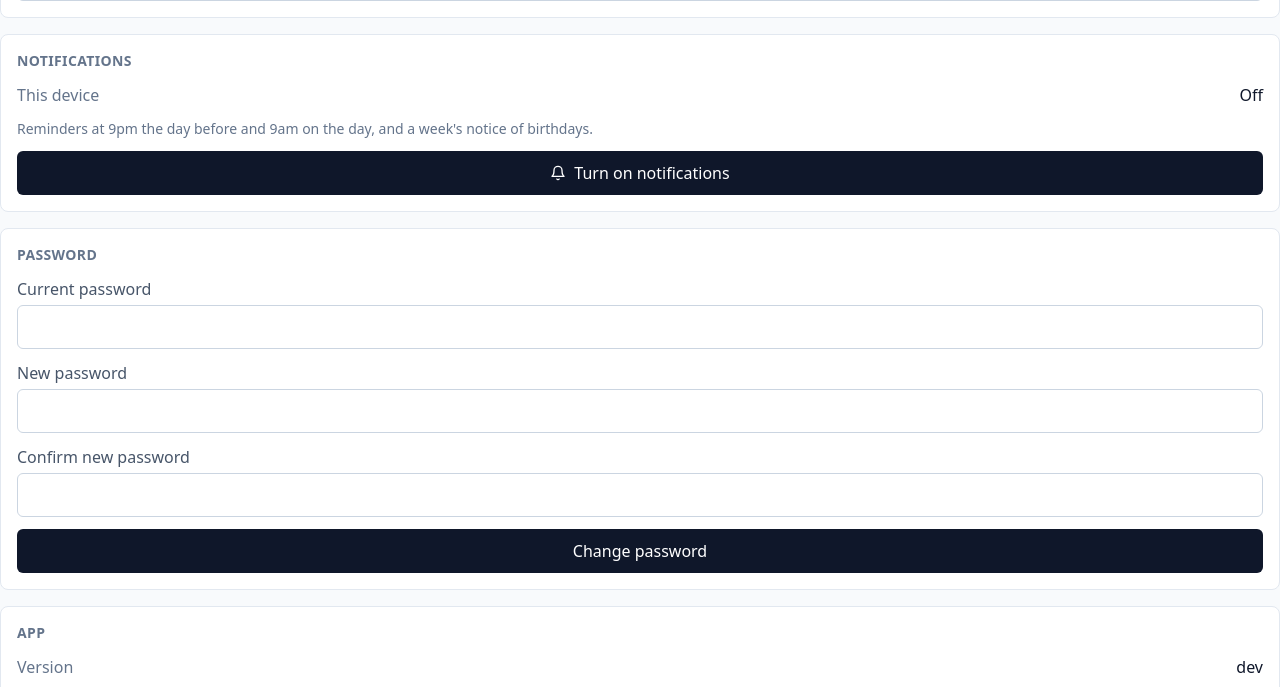
Test: Settings › changes the password and confirms it
(page scrolled)
Type "old-password" into the password field labelled "Current password" at (640, 327), box [17,305,1263,349]
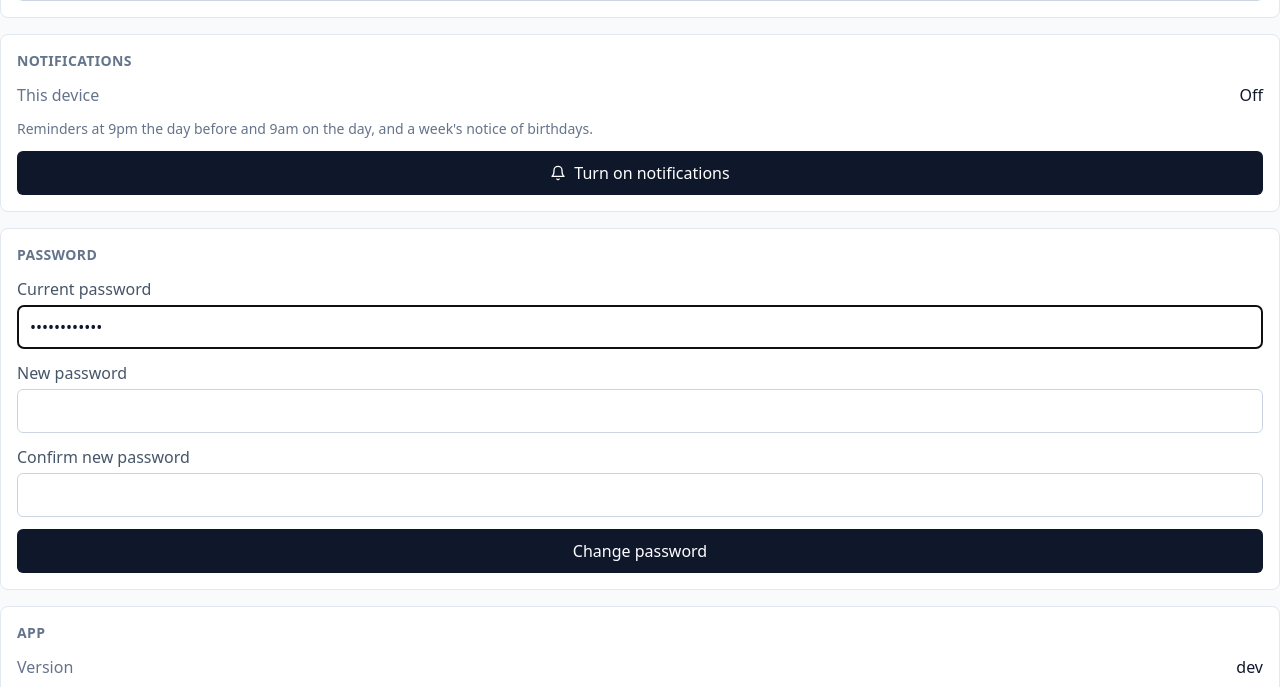
Type "brand-new-one" into the password field labelled "New password" at (640, 411), box [17,389,1263,433]
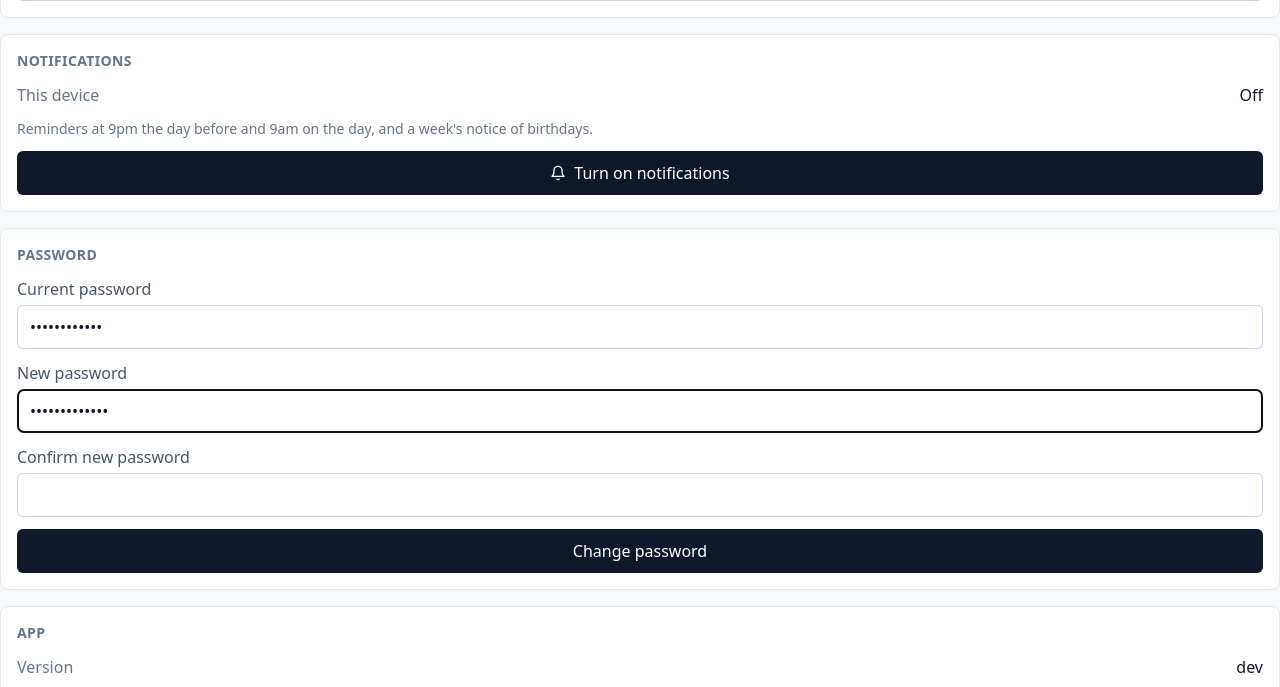
Type "brand-new-one" into the password field labelled "Confirm new password" at (640, 495), box [17,473,1263,517]
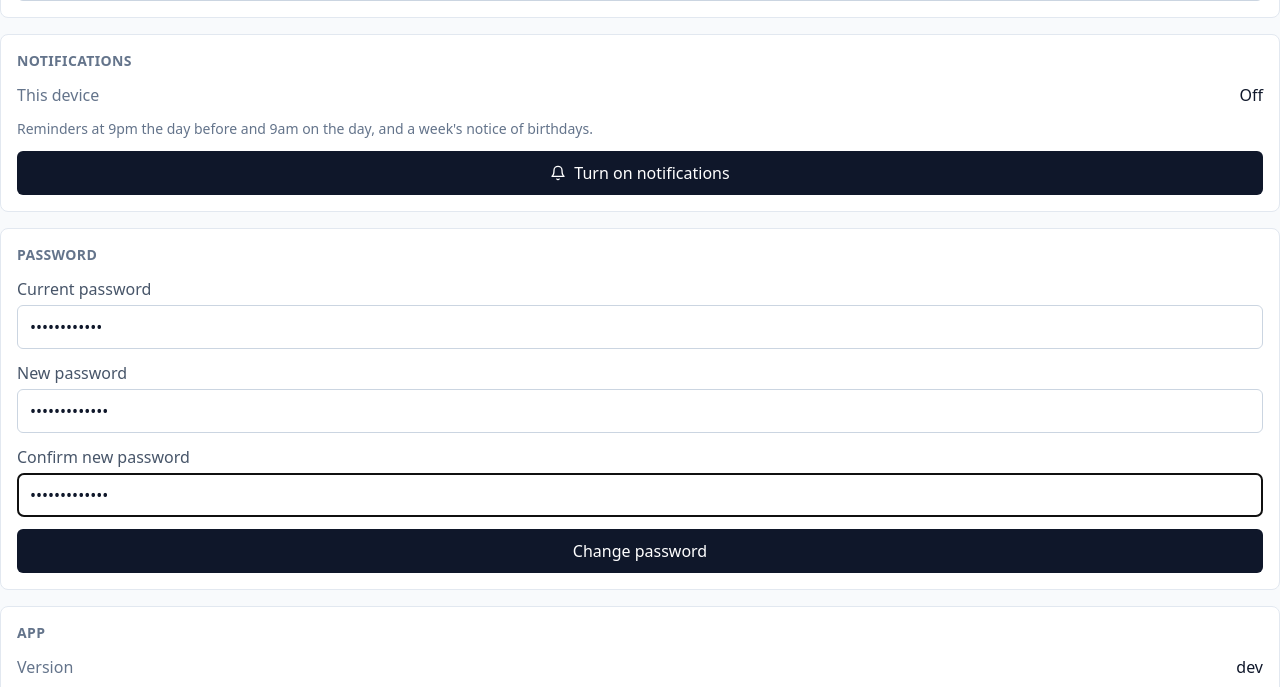
Click the button "Change password" at (640, 551), box [17,529,1263,573]
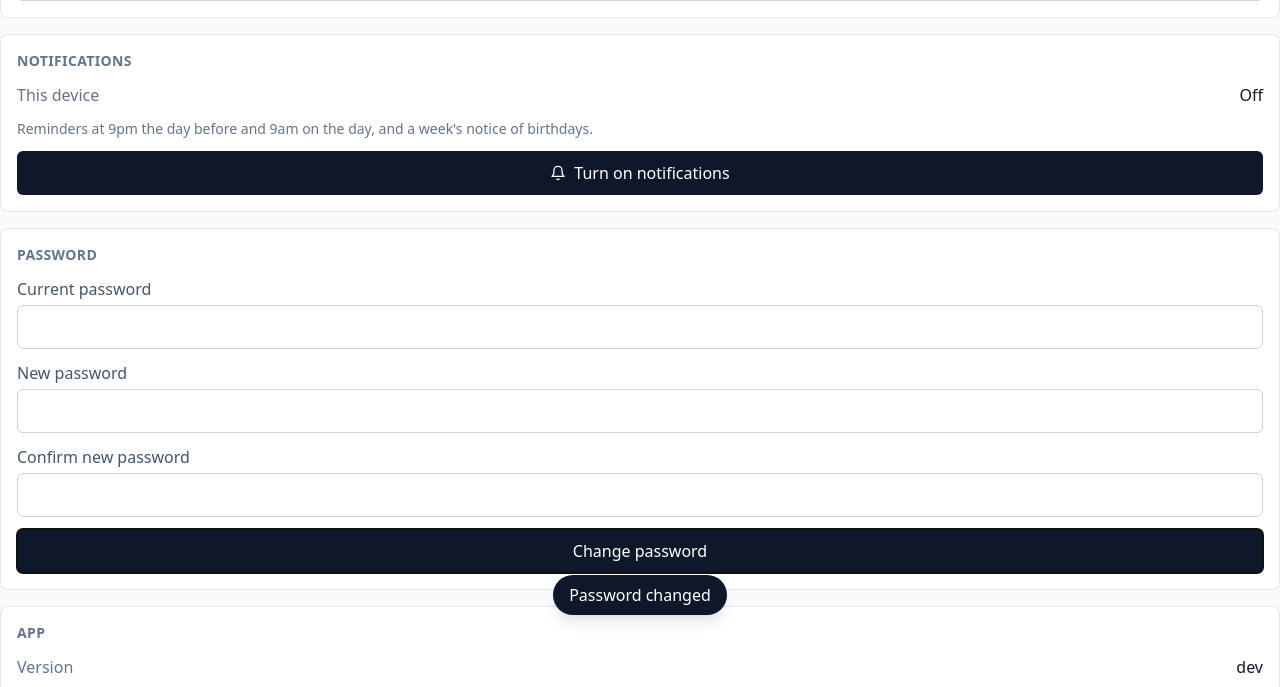
Result: the text "Password changed" is shown at [553,575,727,615]
Result: the password field labelled "Current password" is empty at [17,305,1263,349]
